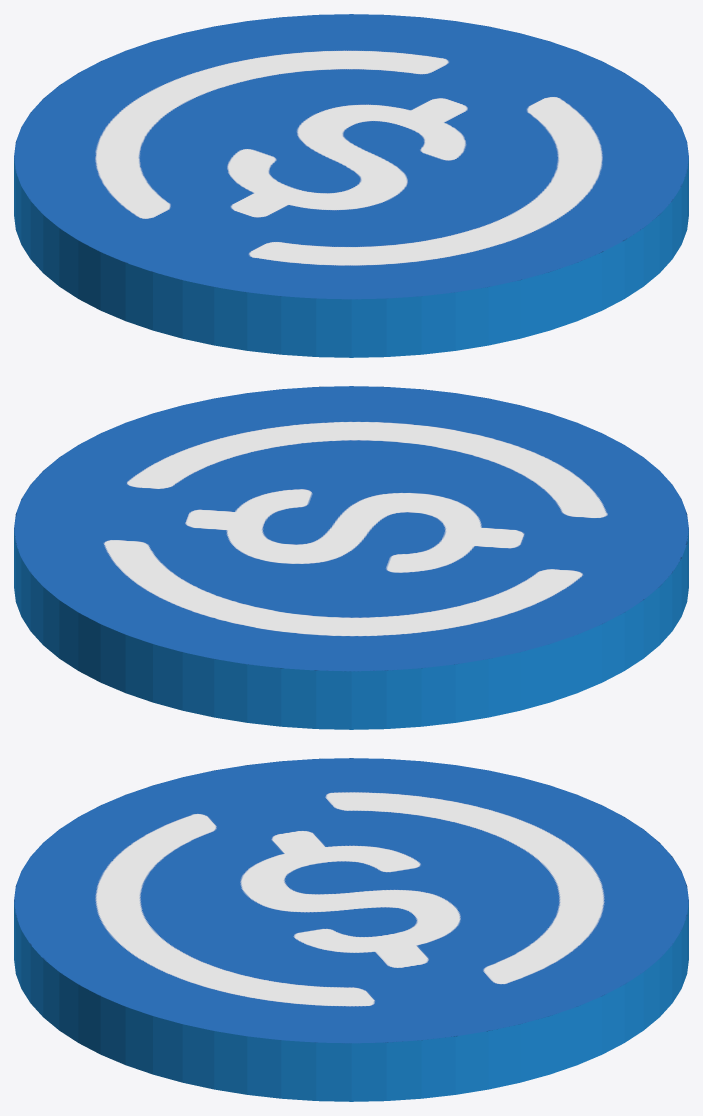
Rendered from usdc.glb.
3 views of the same model, one above another, from view 1: azimuth 30°, elevation 25°; view 2: azimuth 150°, elevation 25°; view 3: azimuth 270°, elevation 25° (orthographic).
Parts seen in each view (by area): view 1: Circle; view 2: Circle; view 3: Circle.
Part boxes in pixels (bbox=[...]): Circle: bbox=[14, 14, 688, 357]; Circle: bbox=[14, 386, 688, 729]; Circle: bbox=[14, 758, 688, 1101].
Size of the model in its own units: 3.47 by 0.332 by 3.47.
Materials: 3 (2 with a texture image).
